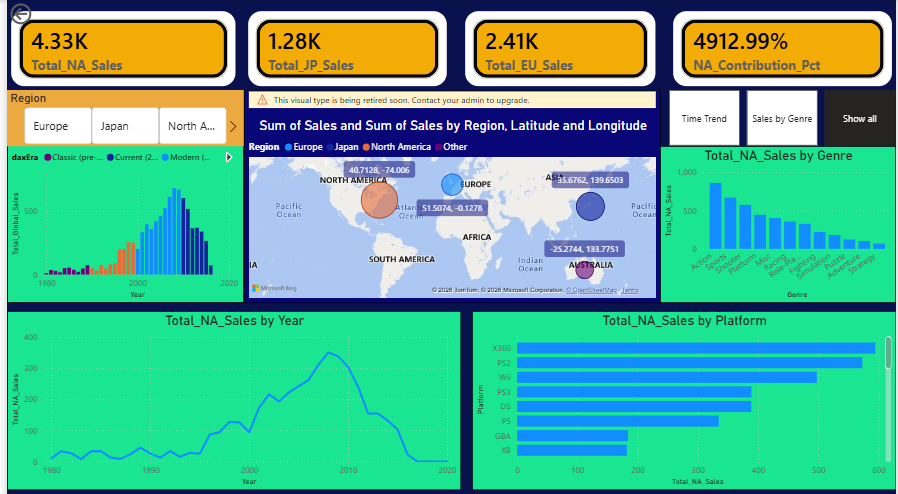

Layout of this report page (visuals, bound fields, positions):
{"tool":"powerbi","page":{"name":"Regional Analysis","canvas":[1280,720],"ordinal":5},"visuals":[{"type":"map","fields":{"Y":["Region_Sales.Latitude"],"X":["Region_Sales.Longitude"],"Size":["Sum(Region_Sales.Sales)"],"Series":["Region_Sales.Region"]},"box":[341.3,129.6,600.5,306.7],"z":0},{"type":"lineChart","fields":{"Category":["Dim_Calendar.Year"],"Y":["Fact_Sales.Total_NA_Sales"]},"box":[0,446.3,668.8,257.6],"z":1000},{"type":"barChart","fields":{"Category":["Dim_Platform.Platform"],"Y":["Fact_Sales.Total_NA_Sales"]},"box":[668.8,446.3,611.7,257.6],"z":2000},{"type":"columnChart","fields":{"Category":["Dim_Calendar.Year"],"Y":["Fact_Sales.Total_Global_Sales"],"Series":["Fact_Sales.daxEra"]},"box":[0,210.2,341.3,226.1],"z":3000},{"type":"clusteredColumnChart","fields":{"Y":["Fact_Sales.Total_NA_Sales"],"Category":["Dim_Genre.Genre"]},"box":[940.3,210.2,339.8,226.1],"z":4000},{"type":"cardVisual","fields":{"Data":["Fact_Sales.Total_NA_Sales"]},"box":[0,10.2,335.1,120],"z":5000},{"type":"cardVisual","fields":{"Data":["Fact_Sales.Total_JP_Sales"]},"box":[341,10.2,298.5,120],"z":6000},{"type":"cardVisual","fields":{"Data":["Fact_Sales.Total_EU_Sales"]},"box":[654.1,10.2,286.8,120],"z":7000},{"type":"cardVisual","fields":{"Data":["Fact_Sales.NA_Contribution_Pct"]},"box":[952.7,10.2,327.8,120],"z":8000},{"type":"bookmarkNavigator","box":[953.3,129.6,326.9,80.6],"z":9000}]}

Visuals, with their boxes in screenshot pixels (x1, y1, x2, y2), scaled from the page's 1280x720 canvas onto the 898x494 screenshot:
map - Region_Sales.Latitude x Region_Sales.Longitude: <bbox>239, 89, 661, 299</bbox>
lineChart - Dim_Calendar.Year x Fact_Sales.Total_NA_Sales: <bbox>0, 306, 469, 483</bbox>
barChart - Dim_Platform.Platform x Fact_Sales.Total_NA_Sales: <bbox>469, 306, 897, 483</bbox>
columnChart - Dim_Calendar.Year x Fact_Sales.Total_Global_Sales: <bbox>0, 144, 239, 299</bbox>
clusteredColumnChart - Fact_Sales.Total_NA_Sales x Dim_Genre.Genre: <bbox>660, 144, 897, 299</bbox>
cardVisual - Fact_Sales.Total_NA_Sales: <bbox>0, 7, 235, 89</bbox>
cardVisual - Fact_Sales.Total_JP_Sales: <bbox>239, 7, 449, 89</bbox>
cardVisual - Fact_Sales.Total_EU_Sales: <bbox>459, 7, 660, 89</bbox>
cardVisual - Fact_Sales.NA_Contribution_Pct: <bbox>668, 7, 897, 89</bbox>
bookmarkNavigator: <bbox>669, 89, 897, 144</bbox>
